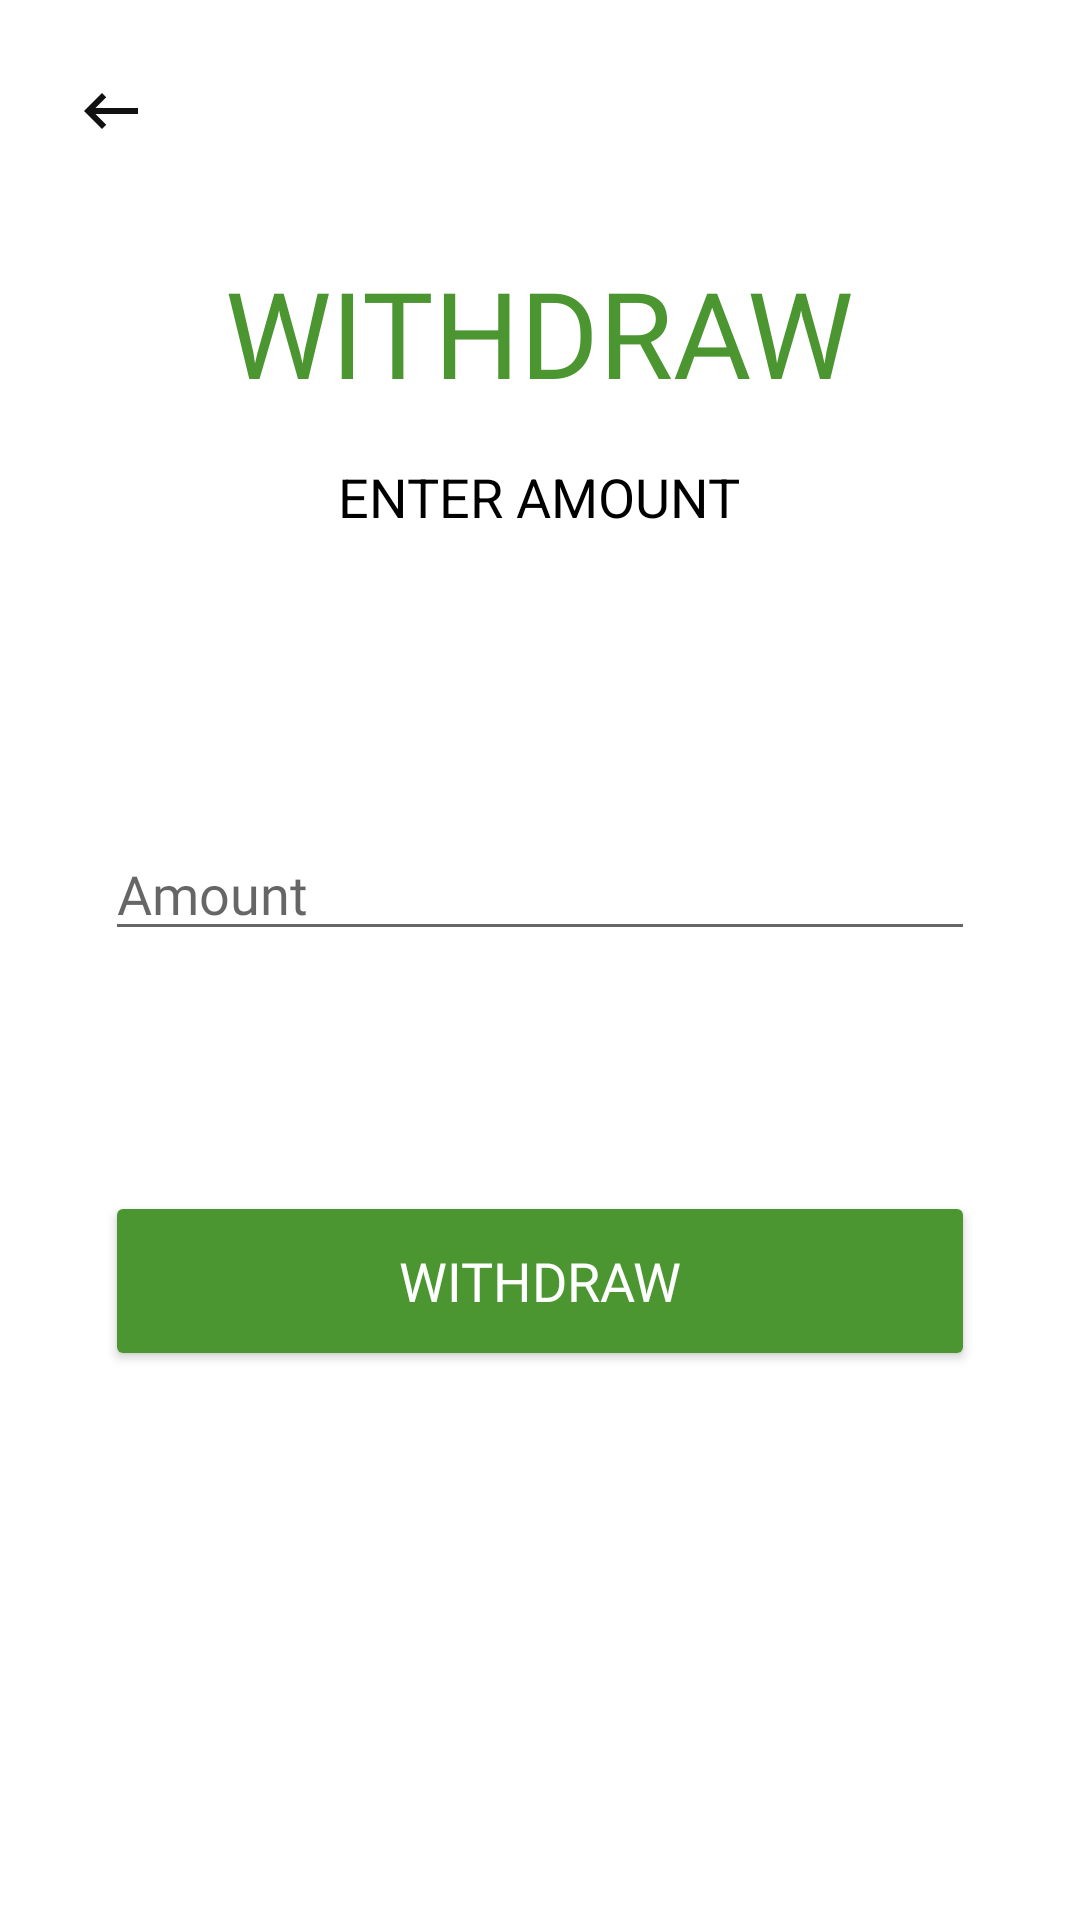

Named icons in this screenshot (1080 × 1920) and their centers, point (x, y):
back: point (111, 111)
